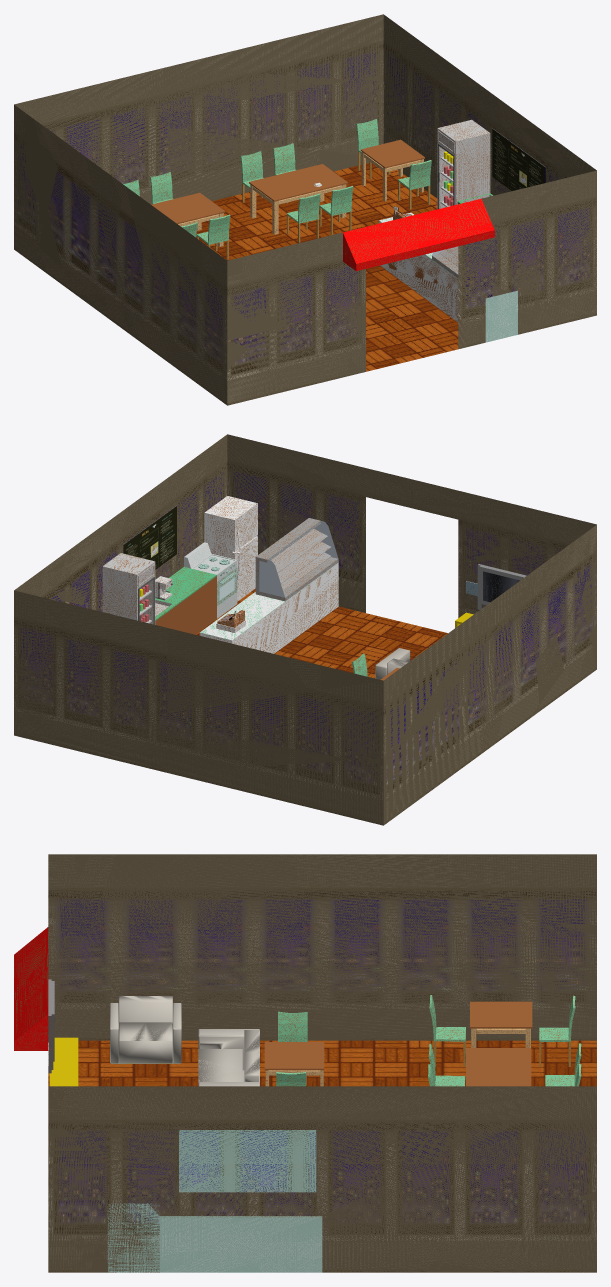
3 renders of one model, top to bottom at view 1: azimuth 30°, elevation 25°; view 2: azimuth 150°, elevation 25°; view 3: azimuth 270°, elevation 25°, orthographic. The views are drawn at different scales.
Parts seen in each view (by area): view 1: instance_13.028_ID606; view 2: instance_13.028_ID606; view 3: instance_13.028_ID606.
Part boxes in pixels (x1,y1,x2,y2): instance_13.028_ID606: (14,14,596,405); instance_13.028_ID606: (14,434,596,825); instance_13.028_ID606: (14,854,596,1272).
Size of the model in its own units: 800 by 301 by 850.
48 materials, 15 textured.
